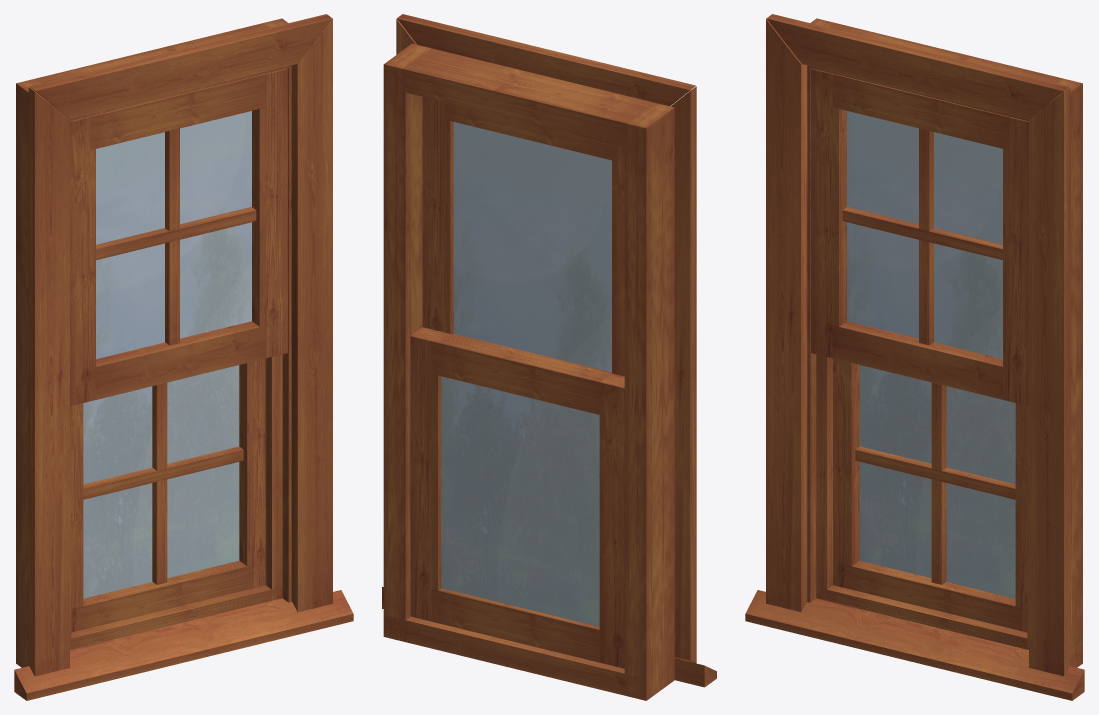
3 views of the same model, side by side, from view 1: azimuth 30°, elevation 25°; view 2: azimuth 150°, elevation 25°; view 3: azimuth 330°, elevation 25° (orthographic).
Parts seen in each view (by area): view 1: glass001, glass, trim_left, trim_right, box_bottom, trim_top, window_right001, box_left, window_left001, window_bottom001, window_top001, window_right (+10 smaller); view 2: glass, glass001, box_left, box_right, trim_left, box_top, window_right, box_bottom, trim_top, window_top, window_left, window_right001 (+3 smaller); view 3: glass001, glass, trim_right, trim_left, box_bottom, trim_top, window_left001, box_right, window_right001, window_bottom001, window_top001, window_left (+10 smaller).
Boxes of the visible parts, box(x1,y1,x2,y2) form: glass001: box(96, 111, 251, 358); glass: box(83, 365, 239, 598); trim_left: box(28, 87, 69, 676); trim_right: box(291, 18, 332, 612); box_bottom: box(14, 590, 353, 700); trim_top: box(29, 14, 332, 119); window_right001: box(252, 68, 287, 358); box_left: box(16, 78, 63, 667); window_left001: box(70, 117, 95, 406); window_bottom001: box(89, 321, 266, 400); window_top001: box(89, 73, 266, 150); window_right: box(239, 358, 265, 588); glass: box(441, 376, 599, 626); glass001: box(453, 122, 611, 372); box_left: box(624, 102, 674, 700); box_right: box(383, 43, 430, 641); trim_left: box(671, 86, 696, 663); box_top: box(403, 48, 654, 146); window_right: box(410, 327, 449, 623); box_bottom: box(382, 587, 716, 700); trim_top: box(397, 14, 695, 106); window_top: box(431, 334, 611, 414); window_left: box(599, 373, 624, 668); window_right001: box(422, 97, 453, 334); glass001: box(847, 111, 1002, 358); glass: box(859, 365, 1015, 598); trim_right: box(1029, 87, 1070, 676); trim_left: box(766, 18, 807, 612); box_bottom: box(745, 590, 1084, 700); trim_top: box(766, 14, 1069, 119); window_left001: box(811, 68, 846, 358); box_right: box(1032, 78, 1082, 649); window_right001: box(1003, 116, 1028, 406); window_bottom001: box(832, 321, 1003, 399); window_top001: box(832, 73, 1009, 149); window_left: box(833, 358, 859, 588).
Bounding box in the file's own units: 23 × 40.46 × 5.
7 materials, 7 textured.
